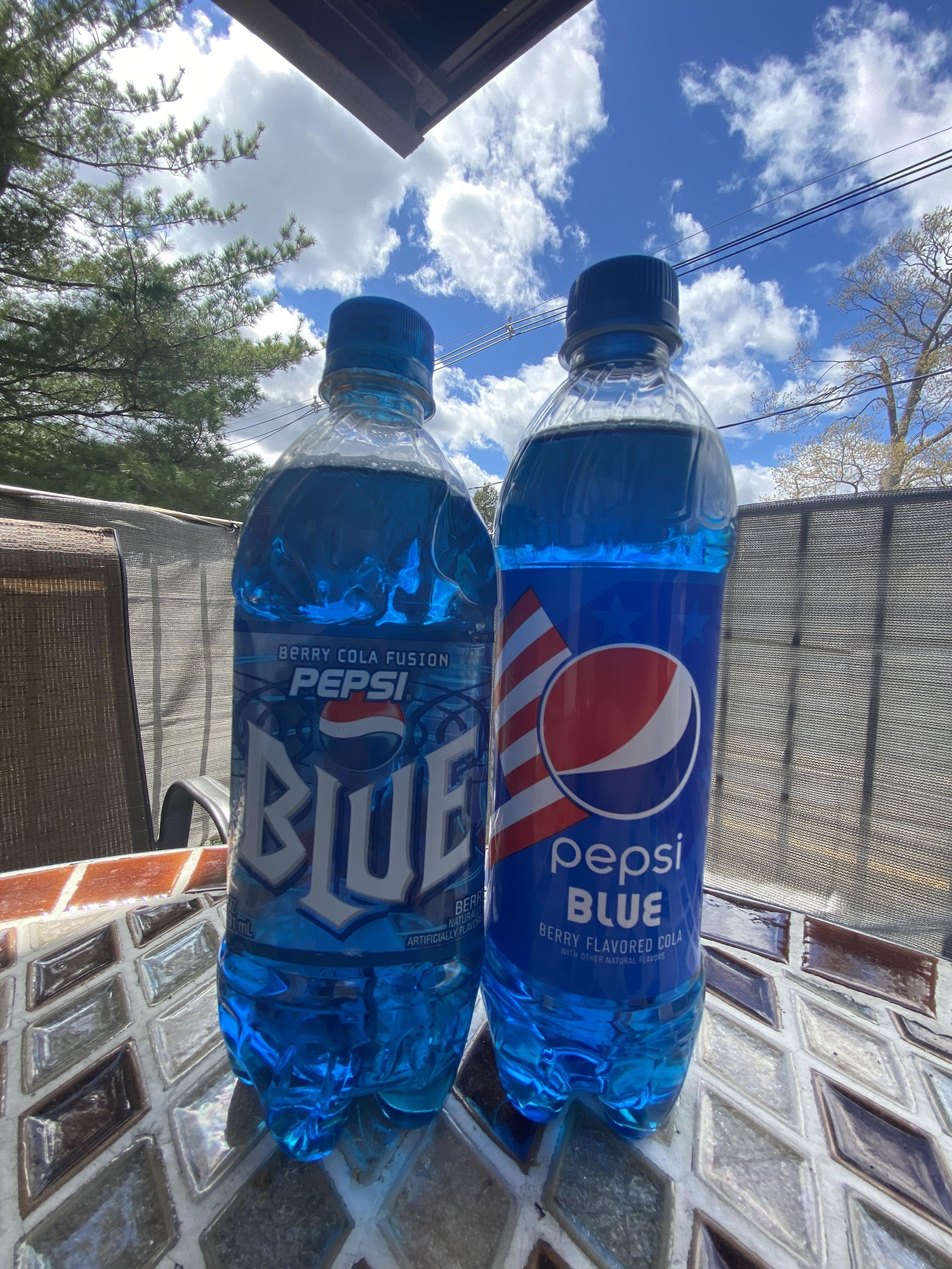bottle-plastic: (212, 293, 498, 1166), (482, 251, 742, 1143)
